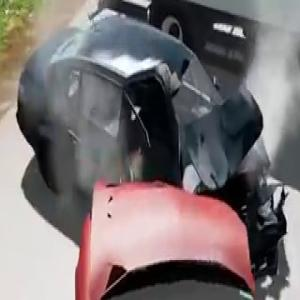severe: (8, 0, 300, 300)
